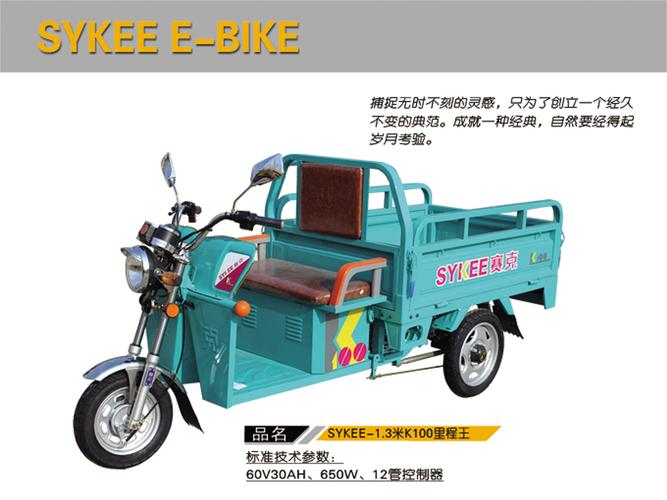empty: (65, 149, 575, 470)
